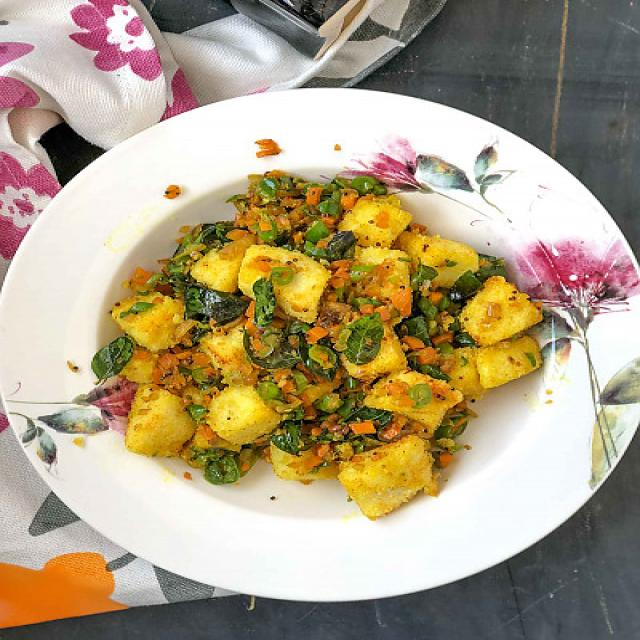BAJI: (93, 171, 542, 516)
